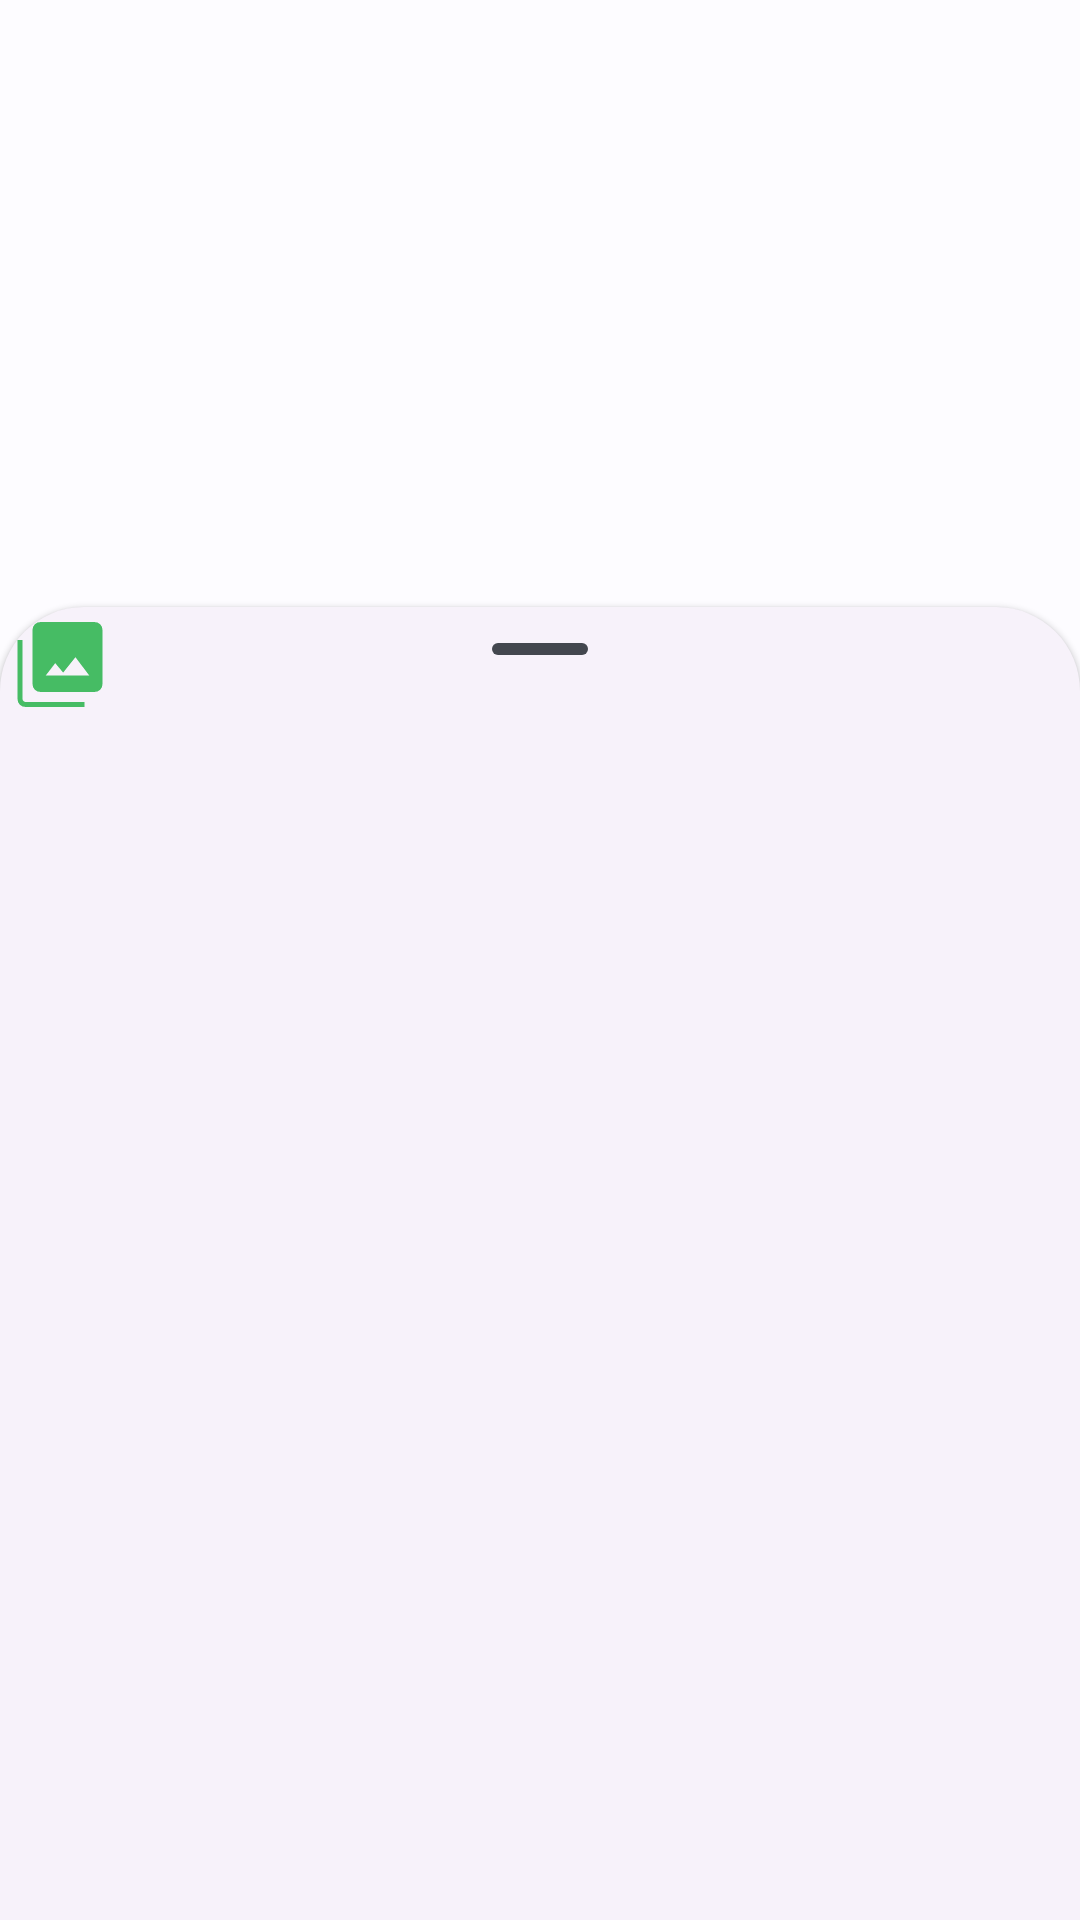

Icons on this 1080 x 1920 Android screen, each with its box as [x1=x1, y1=y1, x2=x2, y2=y2]:
photo library: [x1=17, y1=622, x2=103, y2=707]
